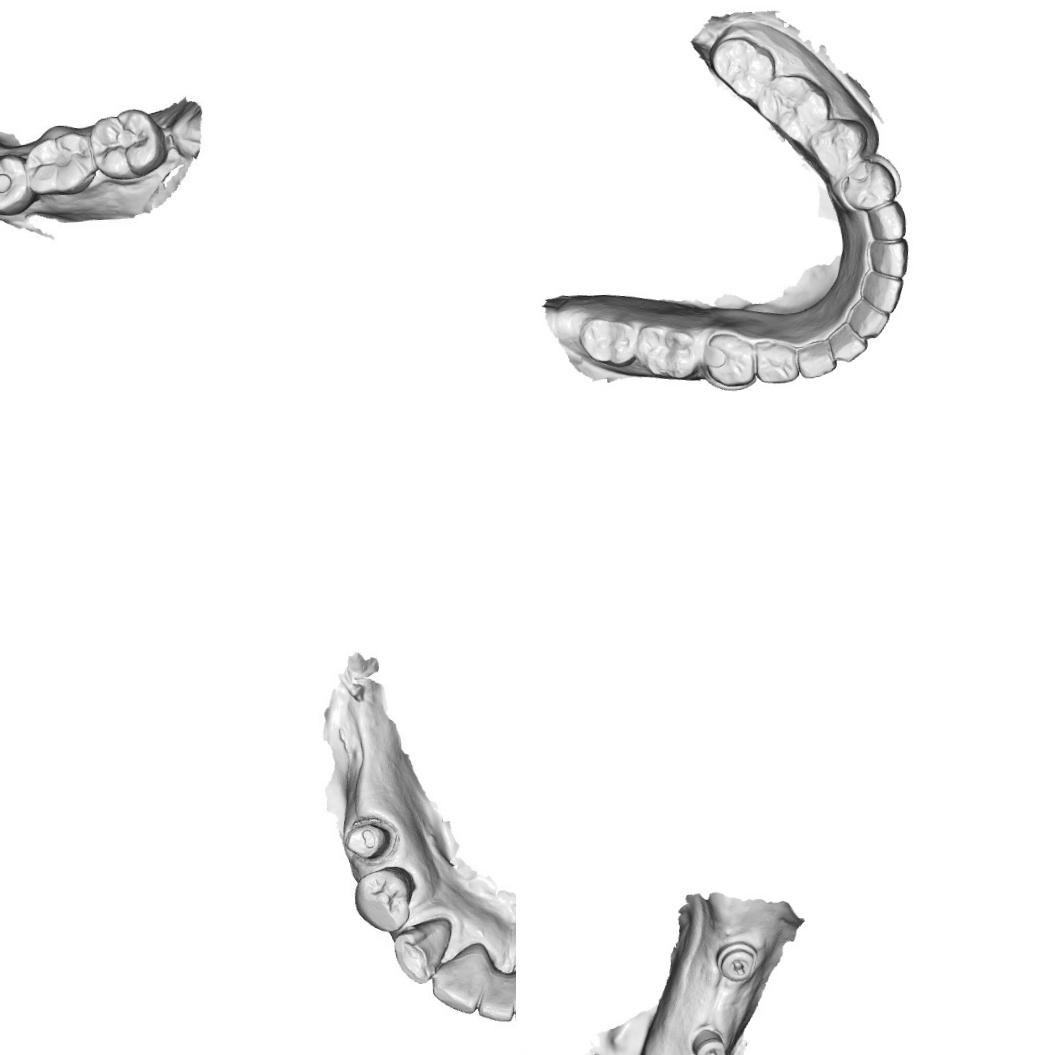canine: (389, 915, 454, 986), (866, 198, 912, 242), (795, 337, 837, 379)
crown: (344, 818, 392, 866)
implant_minus: (713, 938, 759, 984), (689, 1026, 727, 1055)
incisor: (426, 945, 496, 1018), (468, 965, 516, 1026), (858, 267, 904, 315), (844, 294, 890, 340), (825, 318, 868, 364), (866, 238, 910, 278)
molar: (753, 65, 832, 144), (705, 28, 778, 104), (88, 109, 160, 181), (25, 131, 101, 199), (634, 320, 702, 382), (577, 312, 639, 370)
premolar: (351, 862, 418, 934), (804, 116, 869, 177), (702, 329, 760, 392), (837, 158, 897, 212), (753, 337, 800, 384), (0, 154, 31, 212)
